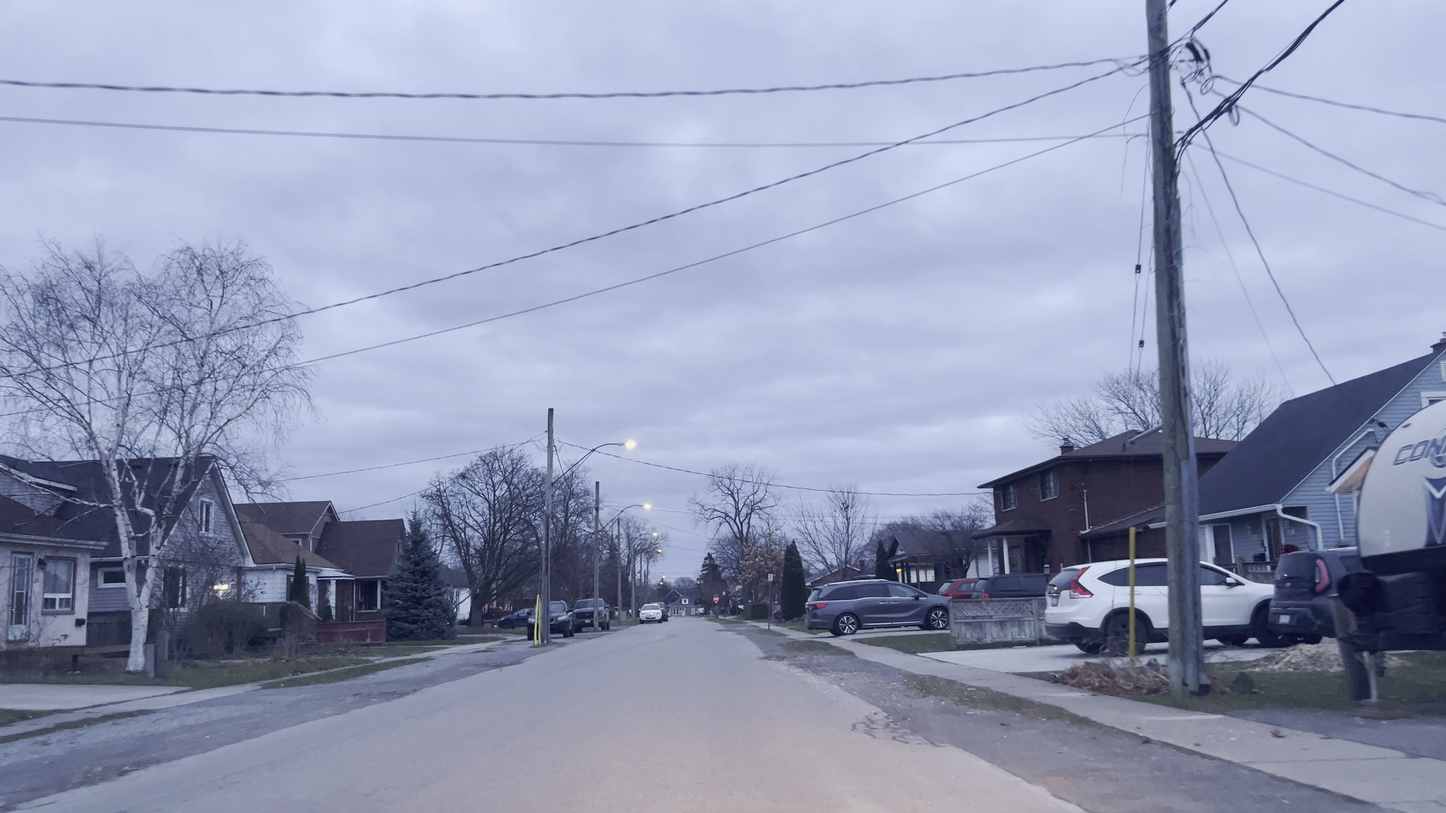cracks: (833, 695, 950, 753)
